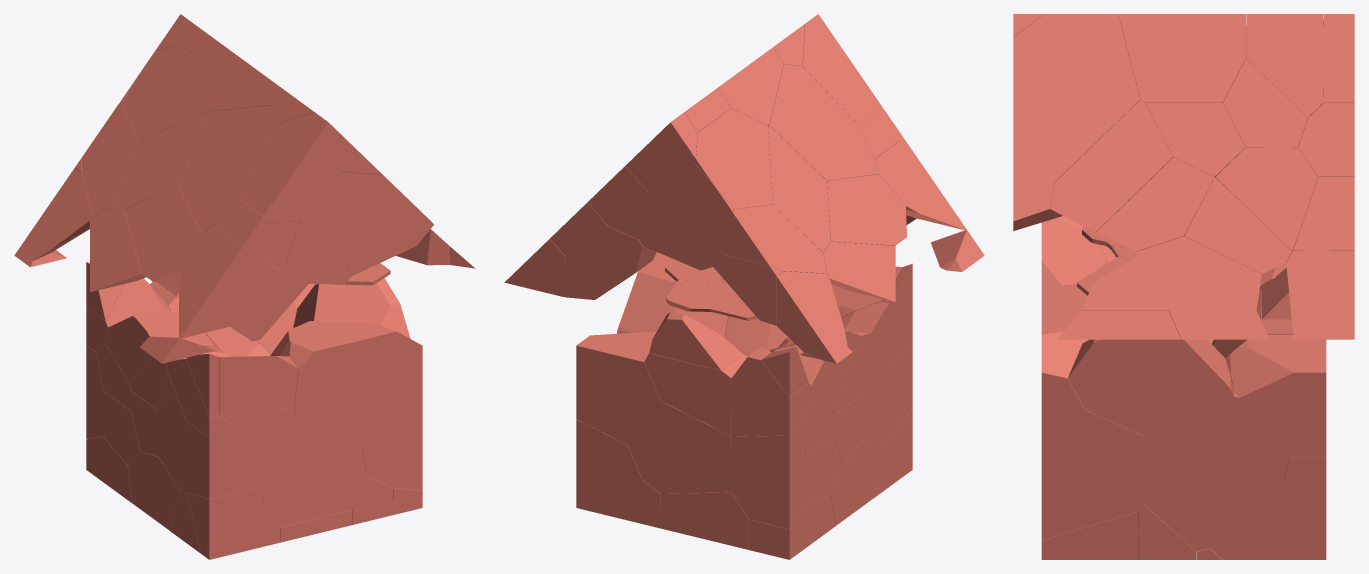
Rendered from house_fracture.glb.
3 views of the same model, side by side, from view 1: azimuth 30°, elevation 25°; view 2: azimuth 150°, elevation 25°; view 3: azimuth 270°, elevation 25° (orthographic). The views are drawn at different scales.
Parts seen in each view (by area): view 1: House_cell.027, House_cell.077, House_cell.079, House_cell.058, House_cell.028, House_cell.034, House_cell.036, House_cell.082, House_cell.019, House_cell.095, House_cell.021, House_cell.065 (+36 smaller); view 2: House_cell.087, House_cell.028, House_cell.013, House_cell.081, House_cell.032, House_cell.036, House_cell.045, House_cell.019, House_cell.025, House_cell.070, House_cell.042, House_cell.021 (+38 smaller); view 3: House_cell.064, House_cell.008, House_cell.023, House_cell.065, House_cell.061, House_cell.087, House_cell.063, House_cell.051, House_cell.091, House_cell.085, House_cell.005, House_cell.046 (+19 smaller).
Part boxes in pixels (bbox=[...]): House_cell.027: bbox=[270, 321, 422, 447]; House_cell.077: bbox=[239, 112, 340, 218]; House_cell.079: bbox=[260, 424, 366, 527]; House_cell.058: bbox=[322, 172, 433, 276]; House_cell.028: bbox=[178, 105, 275, 233]; House_cell.034: bbox=[179, 225, 278, 338]; House_cell.036: bbox=[122, 44, 213, 140]; House_cell.082: bbox=[209, 407, 298, 498]; House_cell.019: bbox=[124, 186, 201, 281]; House_cell.095: bbox=[219, 356, 298, 422]; House_cell.021: bbox=[111, 110, 209, 209]; House_cell.065: bbox=[362, 386, 422, 490]; House_cell.087: bbox=[576, 331, 660, 444]; House_cell.028: bbox=[769, 64, 878, 180]; House_cell.013: bbox=[627, 401, 731, 493]; House_cell.081: bbox=[638, 163, 733, 270]; House_cell.032: bbox=[731, 428, 806, 529]; House_cell.036: bbox=[694, 108, 772, 209]; House_cell.045: bbox=[776, 271, 847, 363]; House_cell.019: bbox=[827, 174, 906, 245]; House_cell.025: bbox=[731, 346, 811, 436]; House_cell.070: bbox=[723, 204, 826, 273]; House_cell.042: bbox=[644, 350, 748, 436]; House_cell.021: bbox=[768, 126, 830, 252]; House_cell.064: bbox=[1013, 14, 1140, 181]; House_cell.008: bbox=[1145, 392, 1289, 551]; House_cell.023: bbox=[1068, 310, 1233, 436]; House_cell.065: bbox=[1041, 409, 1144, 539]; House_cell.061: bbox=[1118, 14, 1245, 102]; House_cell.087: bbox=[1225, 334, 1326, 457]; House_cell.063: bbox=[1050, 100, 1173, 231]; House_cell.051: bbox=[1136, 236, 1261, 309]; House_cell.091: bbox=[1215, 147, 1318, 251]; House_cell.085: bbox=[1246, 14, 1323, 117]; House_cell.005: bbox=[1097, 157, 1214, 251]; House_cell.046: bbox=[1286, 251, 1354, 339].
Size of the model in its own units: 0.7794 by 0.9421 by 0.6.
